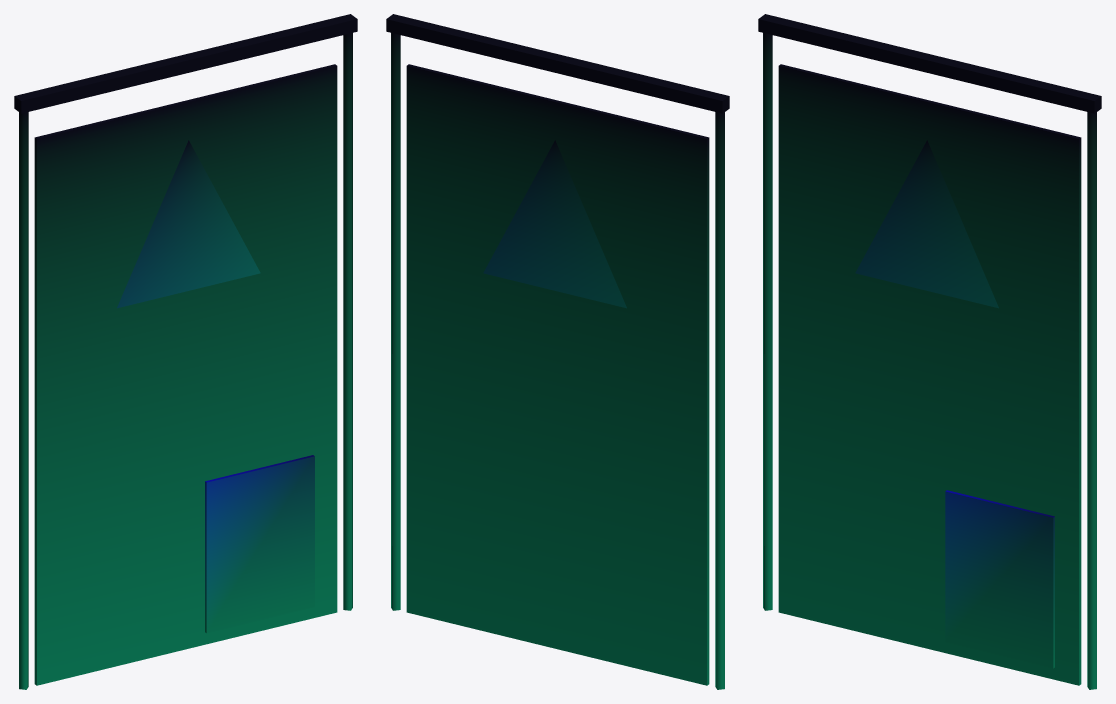
File: l_banner_damaged.glb
The picture shows the model from 3 angles, left to right: view 1: azimuth 30°, elevation 25°; view 2: azimuth 150°, elevation 25°; view 3: azimuth 330°, elevation 25°; orthographic projection.
Parts seen in each view (by area): view 1: lod0; view 2: lod0; view 3: lod0.
Boxes of the visible parts, x1=… form: lod0: x1=14, y1=14, x2=357, y2=689; lod0: x1=386, y1=14, x2=729, y2=689; lod0: x1=758, y1=14, x2=1101, y2=689.
Size of what is drawn, in the model's own units: 5.6 by 9.4 by 0.2.
